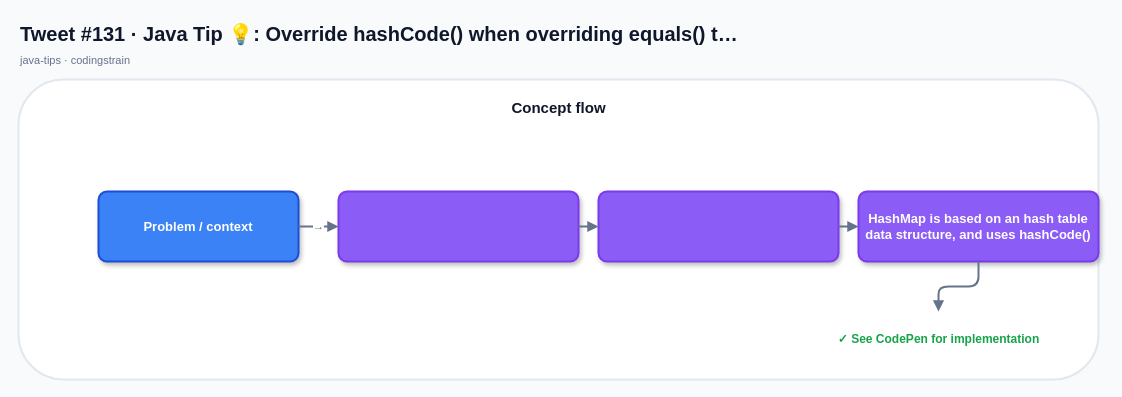
This 1122x397 diagram has some shape labels left out. The centre of each missing label's shape, as x and y in pixels:
Java Tip 💡: Override hashCode() when overriding equals() to ensure col: the point at 719,227
💡 Java Tip 💡: Override hashCode() when overriding equals() to ensure c: the point at 459,227
